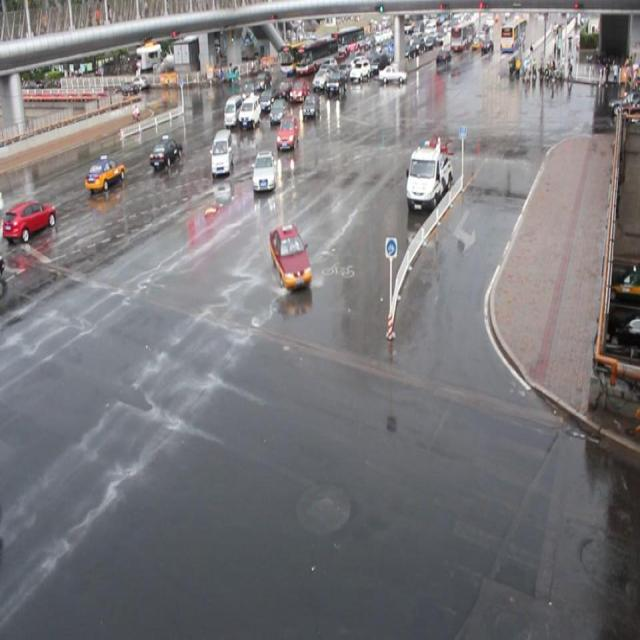bus: (404, 145, 452, 212)
car: (269, 221, 312, 286), (1, 200, 56, 243), (85, 155, 126, 190), (149, 134, 183, 167), (251, 150, 276, 191), (276, 114, 298, 149), (255, 91, 278, 113), (269, 98, 290, 122), (289, 77, 310, 101), (301, 93, 320, 118), (241, 81, 258, 102)
truck: (210, 128, 233, 174), (238, 94, 261, 129), (224, 94, 242, 126)
